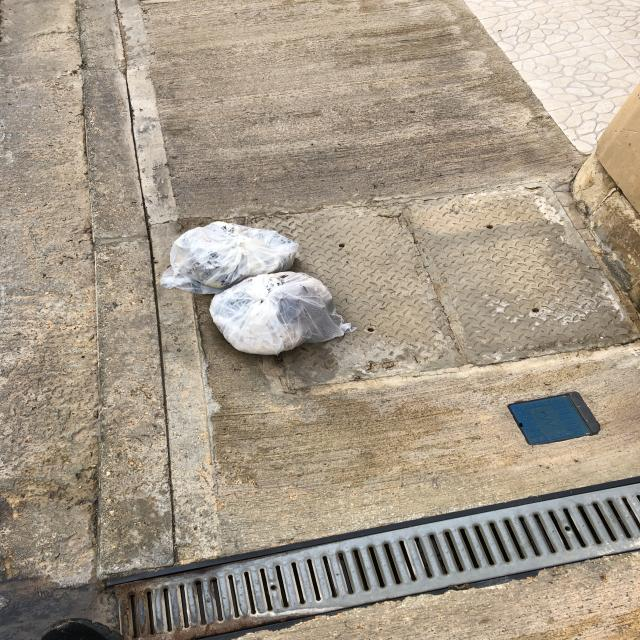Organic Waste -White Bag-: (204, 275, 360, 362), (160, 220, 298, 293)
